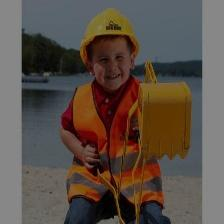Person: (59, 4, 172, 223)
helmet: (84, 9, 142, 65)
vest: (71, 80, 152, 202)
